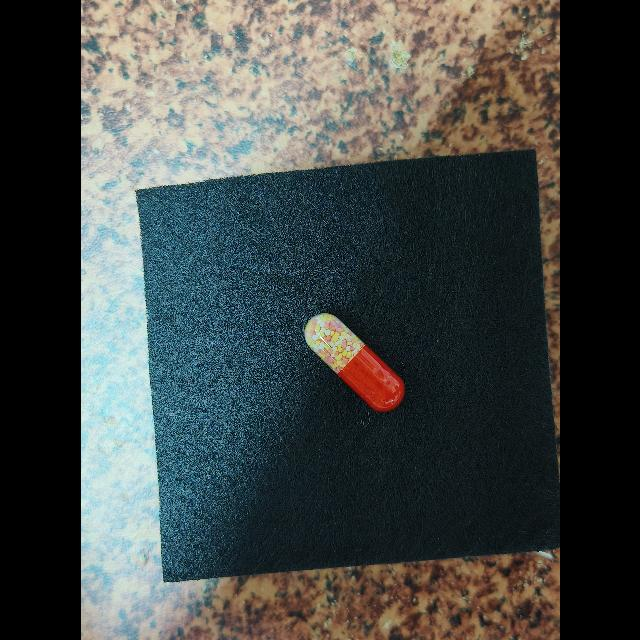Intact Capsule: (304, 313, 405, 411)
